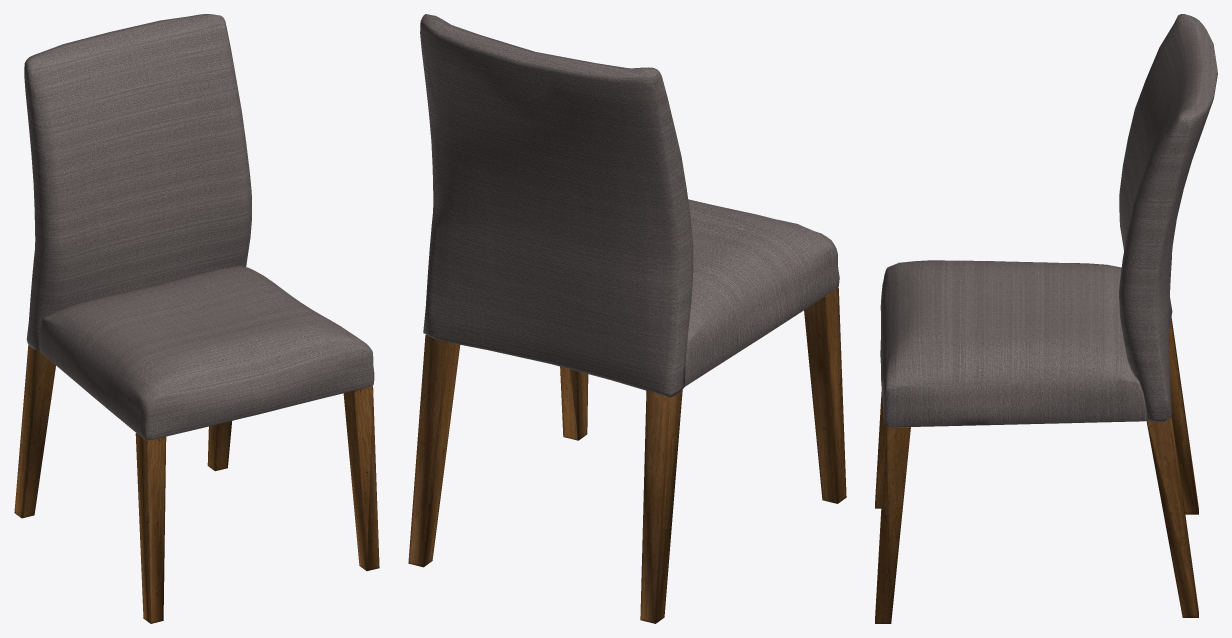
Rendered from dining_chair_abo_B07B78LX2J.glb.
3 views of the same model, side by side, from view 1: azimuth 30°, elevation 25°; view 2: azimuth 150°, elevation 25°; view 3: azimuth 270°, elevation 25° (orthographic). The views are drawn at different scales.
Visible parts, largest first — view 1: RootNode; view 2: RootNode; view 3: RootNode.
Part boxes in pixels (bbox=[...]): RootNode: bbox=[14, 14, 379, 623]; RootNode: bbox=[408, 14, 846, 623]; RootNode: bbox=[875, 14, 1217, 623].
Bounding box in the file's own units: 0.4964 × 0.9403 × 0.5855.
Materials: 1 (1 with a texture image).
